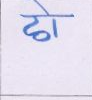e_matra: (32, 0, 51, 14)
